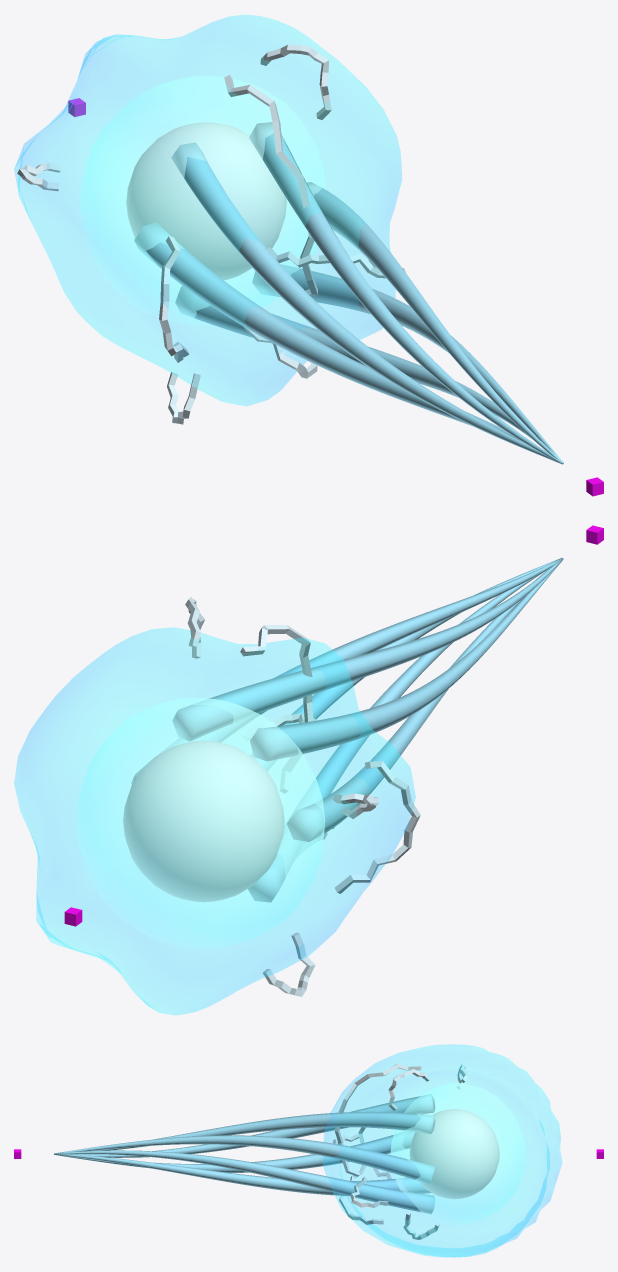
Rendered from EnergyBlast.fbx.
3 views of the same model, one above another, from view 1: azimuth 30°, elevation 25°; view 2: azimuth 150°, elevation 25°; view 3: azimuth 270°, elevation 25° (orthographic). The views are drawn at different scales.
Visible parts, largest first — view 1: Aura, Glow, Coils, Core.008, Sparks; view 2: Aura, Glow, Coils, Core.008, Sparks; view 3: Aura, Coils, Glow, Core.008, Sparks.
Part boxes in pixels (left/top/right/bottom): Aura: left=14, top=14, right=401, bottom=406; Glow: left=79, top=75, right=325, bottom=324; Coils: left=134, top=122, right=563, bottom=464; Core.008: left=126, top=122, right=286, bottom=279; Sparks: left=17, top=44, right=405, bottom=424; Aura: left=14, top=627, right=415, bottom=1015; Glow: left=76, top=698, right=325, bottom=948; Coils: left=131, top=558, right=563, bottom=902; Core.008: left=123, top=741, right=284, bottom=901; Sparks: left=185, top=597, right=420, bottom=996; Aura: left=323, top=1044, right=562, bottom=1257; Coils: left=54, top=1094, right=435, bottom=1213; Glow: left=390, top=1083, right=525, bottom=1225; Core.008: left=410, top=1109, right=499, bottom=1198; Sparks: left=332, top=1064, right=468, bottom=1239.
Size of the model in its own units: 3.11 by 3.03 by 8.1.
